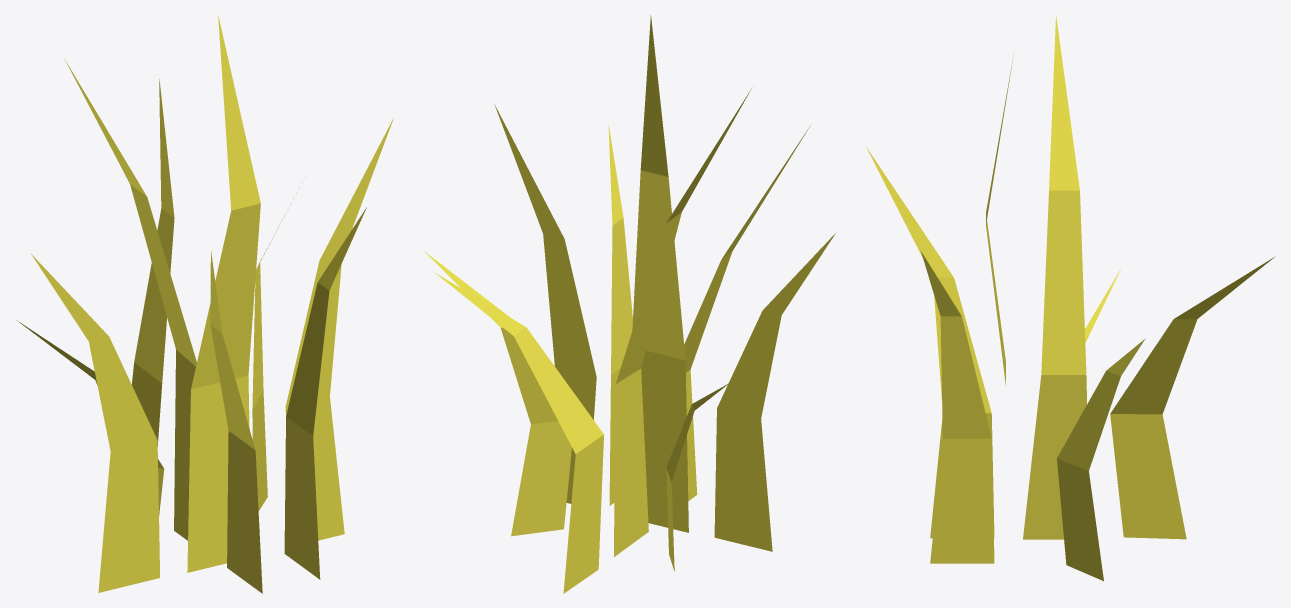
Rendered from grass4.fbx.
3 renders of one model, left to right at view 1: azimuth 30°, elevation 25°; view 2: azimuth 150°, elevation 25°; view 3: azimuth 270°, elevation 25°, orthographic. The views are drawn at different scales.
Visible parts, largest first — view 1: Plane; view 2: Plane; view 3: Plane.
Part boxes in pixels (<box>): Plane: <box>16,14,393,593</box>; Plane: <box>424,15,836,593</box>; Plane: <box>866,15,1275,581</box>.
Bounding box in the file's own units: 1.68 × 2.42 × 1.82.
